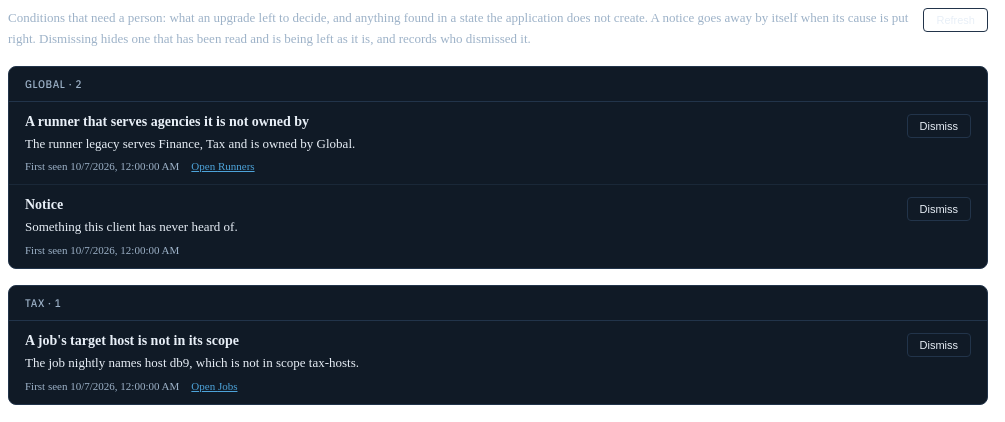
Notices (LR-85) › dismisses through the server, one notice, and says it fixes nothing
Click the button with aria-label "Dismiss: A job's target host is not in its scope, Tax".
click(939, 345)  # box [906,333,971,357]
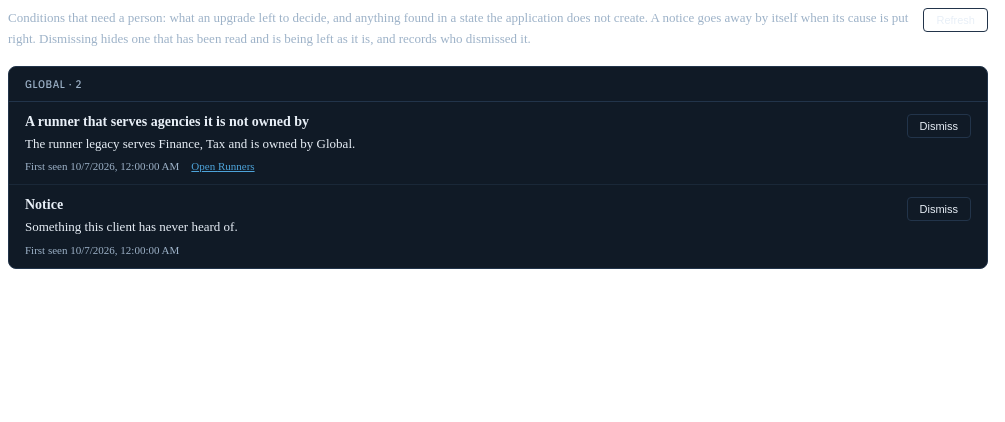
Expected: the text "The runner legacy serves Finance, Tax" is shown, [25,136,355,151]
Result: the text "The job nightly names host db9" is gone
